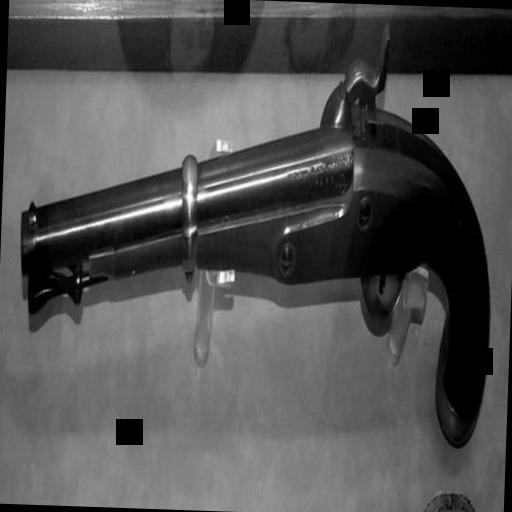Handgun: (8, 13, 502, 456)
